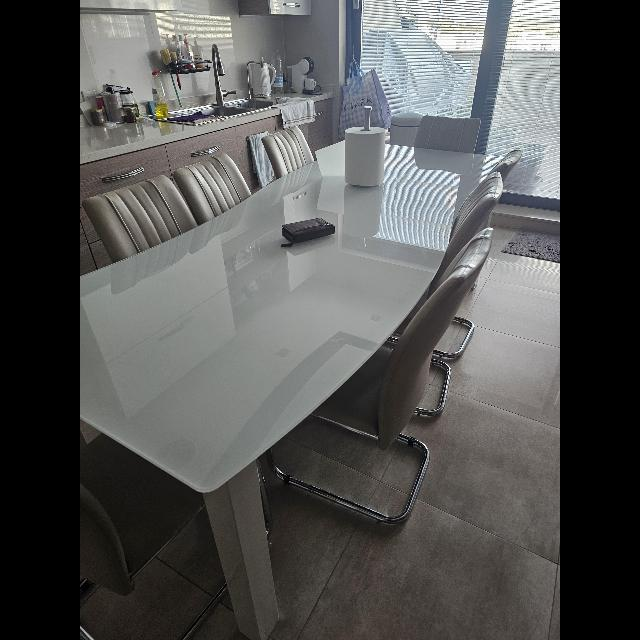Wallet: (281, 218, 335, 246)
